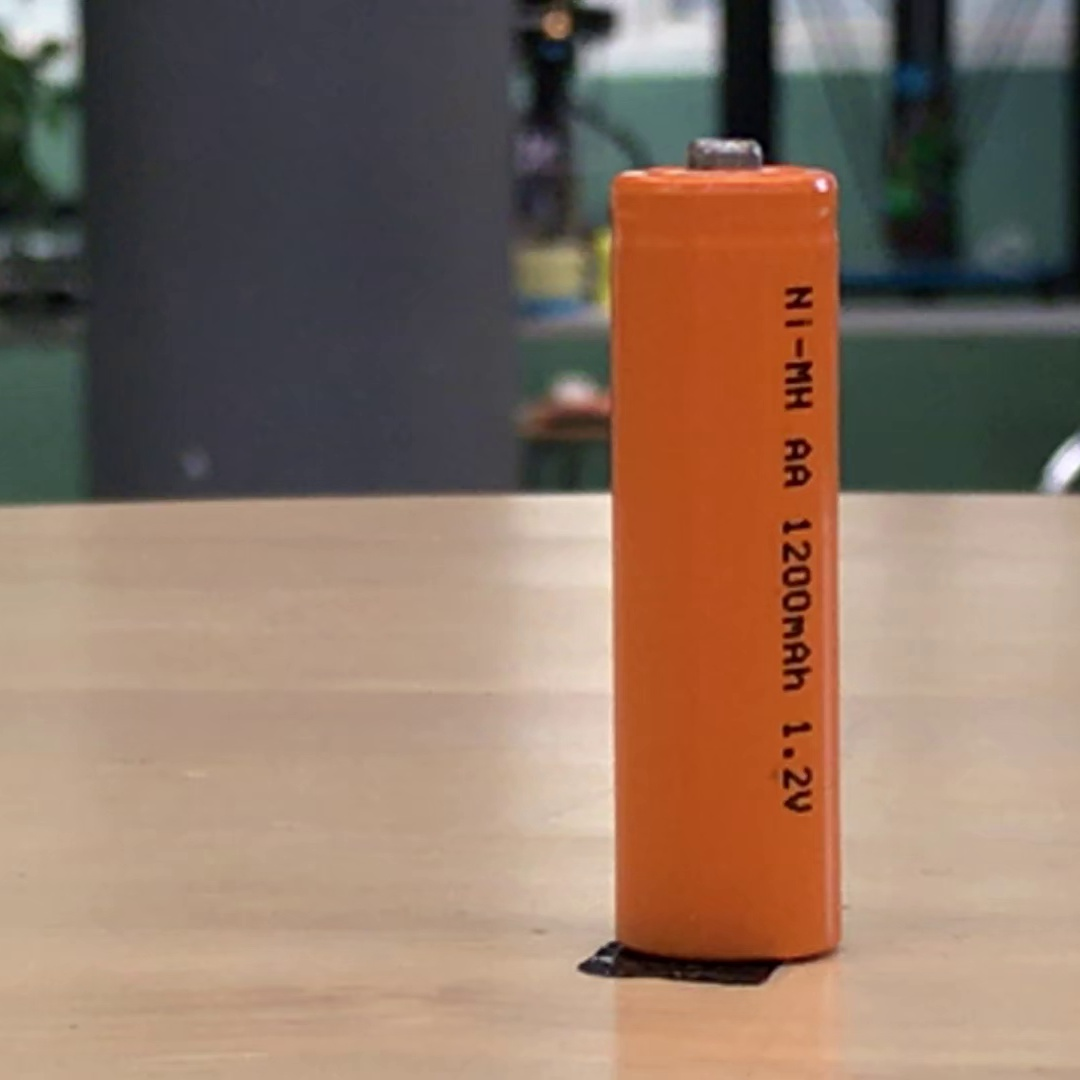keyword: (776, 277, 822, 420), (773, 713, 821, 822)
